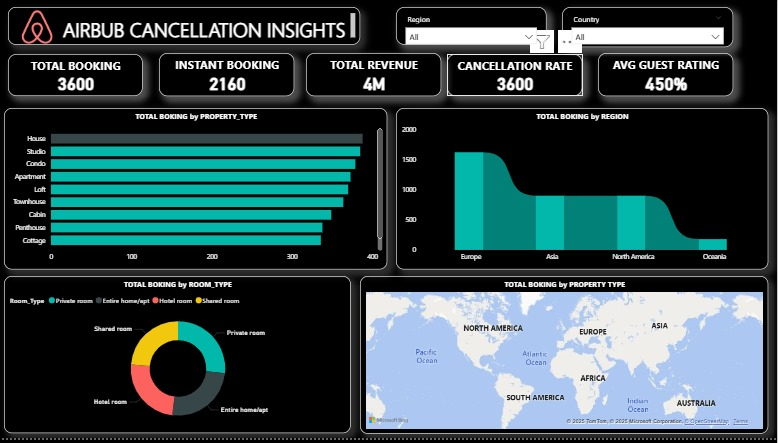

The dashboard page shown, as its layout file describes it:
{"tool":"powerbi","page":{"name":"Page 1","canvas":[1280,720],"ordinal":0},"visuals":[{"type":"clusteredBarChart","title":"TOTAL BOKING by PROPERTY_TYPE","fields":{"Y":["airbnb_global_dataset.TOTAL BOKING"],"Category":["airbnb_global_dataset.Property_Type"]},"box":[10.7,178.3,629.3,265],"z":0},{"type":"ribbonChart","title":"TOTAL BOKING by REGION","fields":{"Category":["airbnb_global_dataset.Region"],"Y":["airbnb_global_dataset.TOTAL BOKING"]},"box":[655.6,178.3,610.8,265],"z":1000},{"type":"donutChart","title":"TOTAL BOKING by ROOM_TYPE","fields":{"Category":["airbnb_global_dataset.Room_Type"],"Y":["airbnb_global_dataset.TOTAL BOKING"]},"box":[10.7,454.9,568.9,258.1],"z":2000},{"type":"card","title":"TOTAL BOOKING","fields":{"Values":["airbnb_global_dataset.TOTAL BOKING"]},"box":[18.5,89.6,221.1,69.2],"z":3000},{"type":"card","title":"TOTAL REVENUE","fields":{"Values":["airbnb_global_dataset.total revenue"]},"box":[507.3,89,221.7,70.6],"z":4000},{"type":"card","title":"AVG GUEST RATING","fields":{"Values":["airbnb_global_dataset.AVG GUEST RATING"]},"box":[986,89,221.7,70.6],"z":5000},{"type":"image","box":[10.7,9.7,109.1,72.1],"z":6000},{"type":"card","title":"CANCELLATION RATE","fields":{"Values":["airbnb_global_dataset.INSTANT BOKING"]},"box":[739.1,90.7,221.7,68.9],"z":7000},{"type":"filledMap","title":"TOTAL BOKING by PROPERTY TYPE","fields":{"Series":["airbnb_global_dataset.Property_Type"]},"box":[596.3,455.2,670.2,258.7],"z":8000},{"type":"textbox","box":[18.5,13.4,577.8,62.2],"z":9000},{"type":"slicer","fields":{"Values":["airbnb_global_dataset.Region"]},"box":[655.1,13.4,246.9,62.2],"z":10000},{"type":"slicer","fields":{"Values":["airbnb_global_dataset.Country"]},"box":[927.2,13.4,280.5,65.5],"z":11000},{"type":"card","title":"INSTANT BOOKING","fields":{"Values":["airbnb_global_dataset.Instant Bookings"]},"box":[265.8,88.6,222.4,70.5],"z":12000}]}

Visuals, with their boxes in screenshot pixels (x1, y1, x2, y2), scaled from the page's 1280x720 canvas onto the 778x443 screenshot:
"TOTAL BOKING by PROPERTY_TYPE" clusteredBarChart: bbox(7, 110, 389, 273)
"TOTAL BOKING by REGION" ribbonChart: bbox(398, 110, 770, 273)
"TOTAL BOKING by ROOM_TYPE" donutChart: bbox(7, 280, 352, 439)
"TOTAL BOOKING" card: bbox(11, 55, 146, 98)
"TOTAL REVENUE" card: bbox(308, 55, 443, 98)
"AVG GUEST RATING" card: bbox(599, 55, 734, 98)
image: bbox(7, 6, 73, 50)
"CANCELLATION RATE" card: bbox(449, 56, 584, 98)
"TOTAL BOKING by PROPERTY TYPE" filledMap: bbox(362, 280, 770, 439)
textbox: bbox(11, 8, 362, 47)
slicer - airbnb_global_dataset.Region: bbox(398, 8, 548, 47)
slicer - airbnb_global_dataset.Country: bbox(564, 8, 734, 49)
"INSTANT BOOKING" card: bbox(162, 55, 297, 98)
